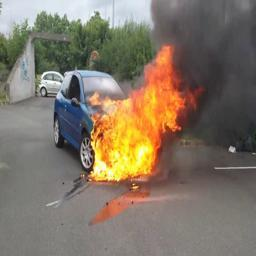fire: (88, 41, 202, 183)
